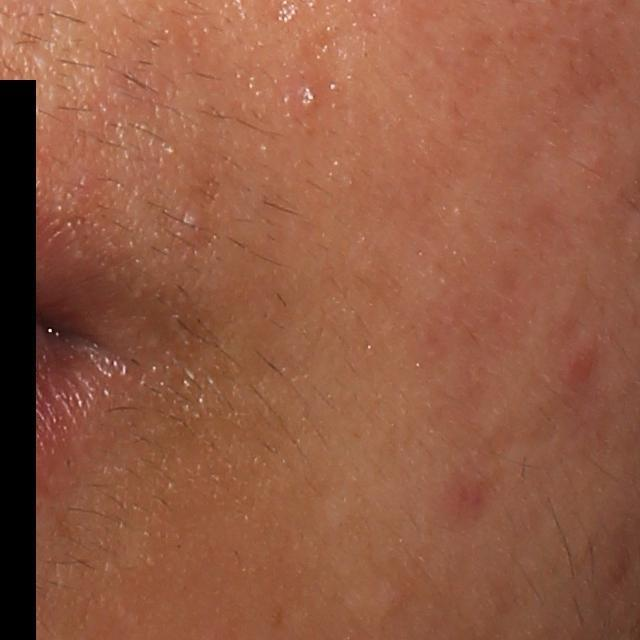comedo: (181, 206, 206, 236)
papule: (565, 348, 598, 389)
